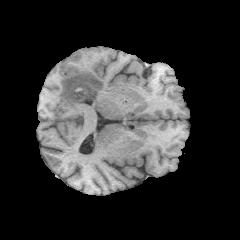glioma: (59, 71, 104, 107)
